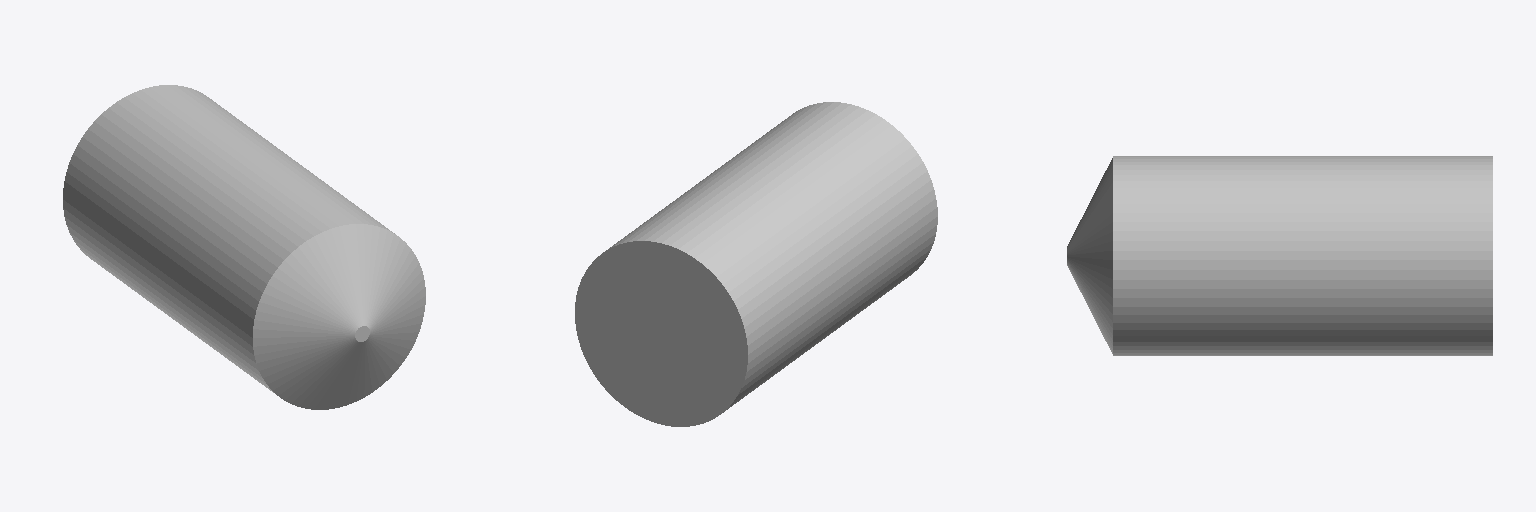
File: Candle5b.obj
3 renders of one model, left to right at view 1: azimuth 30°, elevation 25°; view 2: azimuth 150°, elevation 25°; view 3: azimuth 270°, elevation 25°, orthographic.
Visible parts, largest first — view 1: Candle5b_Cylinder.013; view 2: Candle5b_Cylinder.013; view 3: Candle5b_Cylinder.013.
Part boxes in pixels (x1,y1,x2,y2): Candle5b_Cylinder.013: (63, 85, 425, 409); Candle5b_Cylinder.013: (575, 102, 937, 426); Candle5b_Cylinder.013: (1067, 156, 1492, 355).
Bounding box in the file's own units: 0.1362 × 0.1362 × 0.2901.